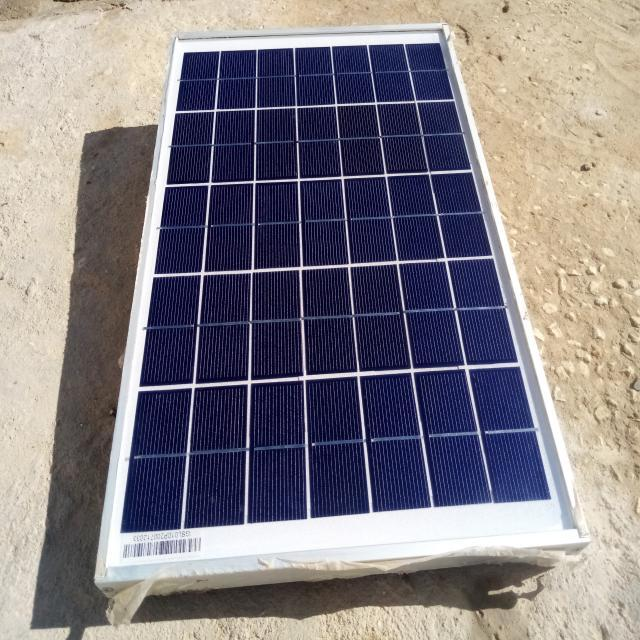no faulty: (98, 25, 585, 578)
